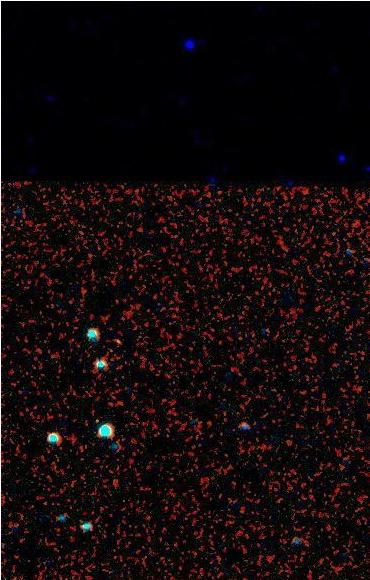star: (80, 406, 110, 436)
